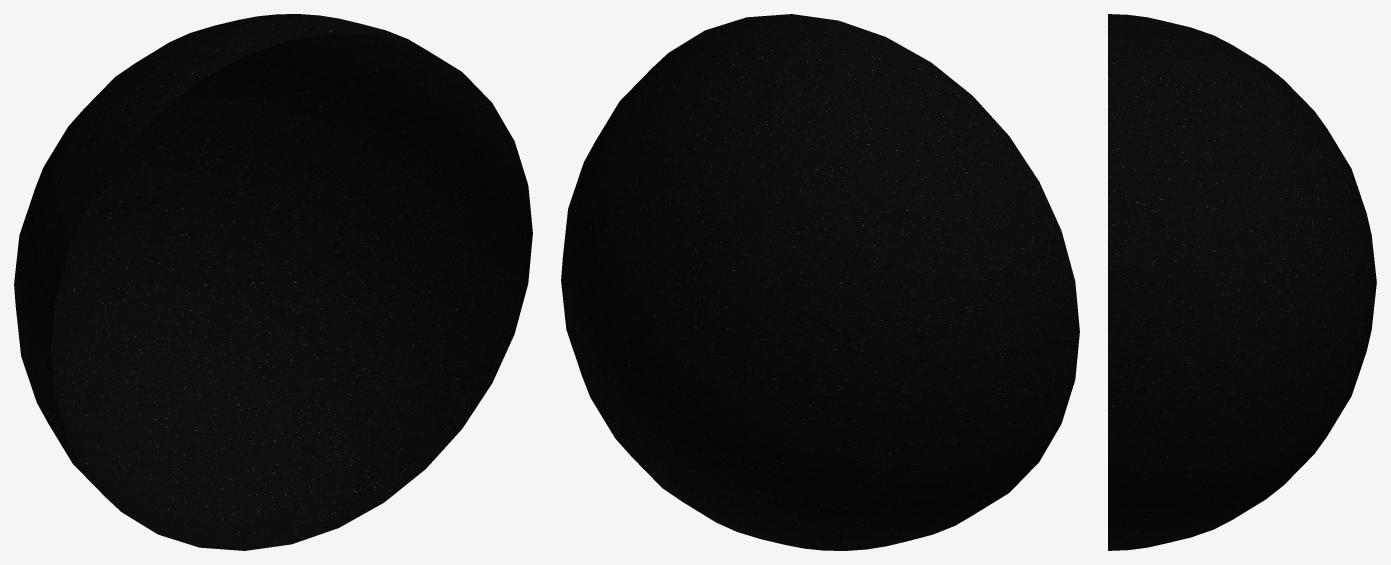
Rendered from Skydome.glb.
3 renders of one model, left to right at view 1: azimuth 30°, elevation 25°; view 2: azimuth 150°, elevation 25°; view 3: azimuth 270°, elevation 25°, orthographic. The views are drawn at different scales.
Parts seen in each view (by area): view 1: Skydome; view 2: Skydome; view 3: Skydome.
Part boxes in pixels (left/top/right/bottom): Skydome: left=14, top=14, right=532, bottom=550; Skydome: left=561, top=14, right=1079, bottom=550; Skydome: left=1108, top=14, right=1376, bottom=550.
Size of the model in its own units: 100 by 100 by 50.
Materials: 1 (1 with a texture image).
